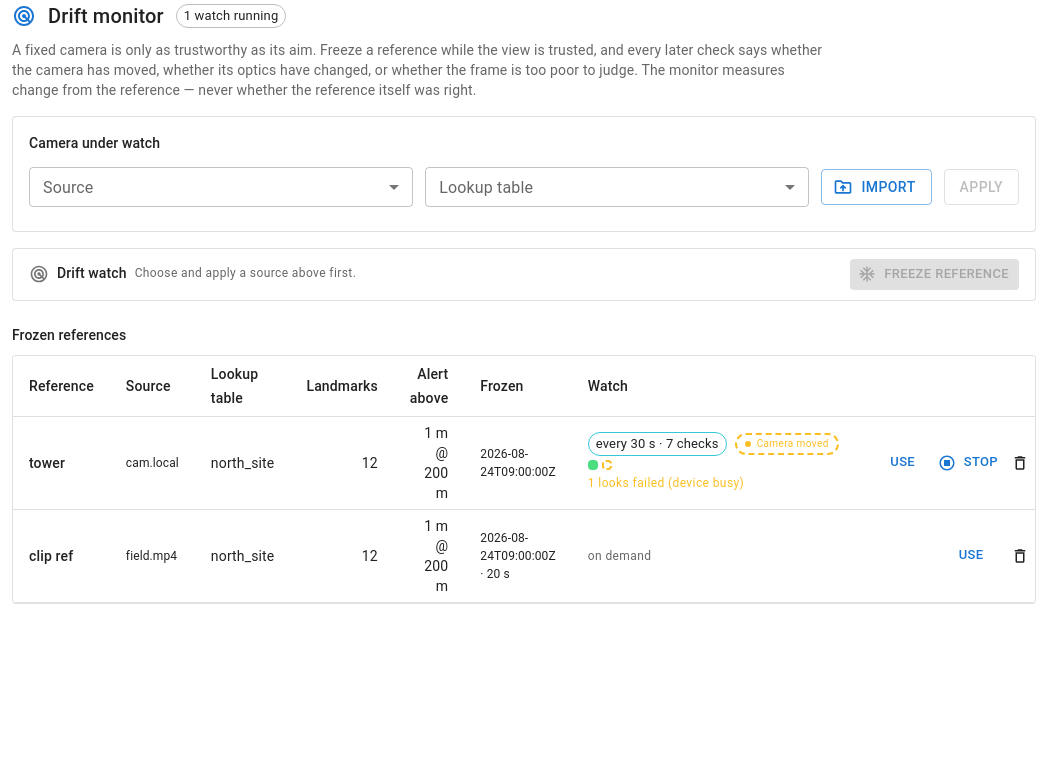
Test case: the drift monitor page › offers saved cameras, library clips and a free-form source
The image size is (1048, 768).
Expected: the table named "Frozen references" is shown, [13, 356, 1036, 603]
Press the mouse on the dropdown named "Source" at (221, 187), box [29, 167, 413, 207]
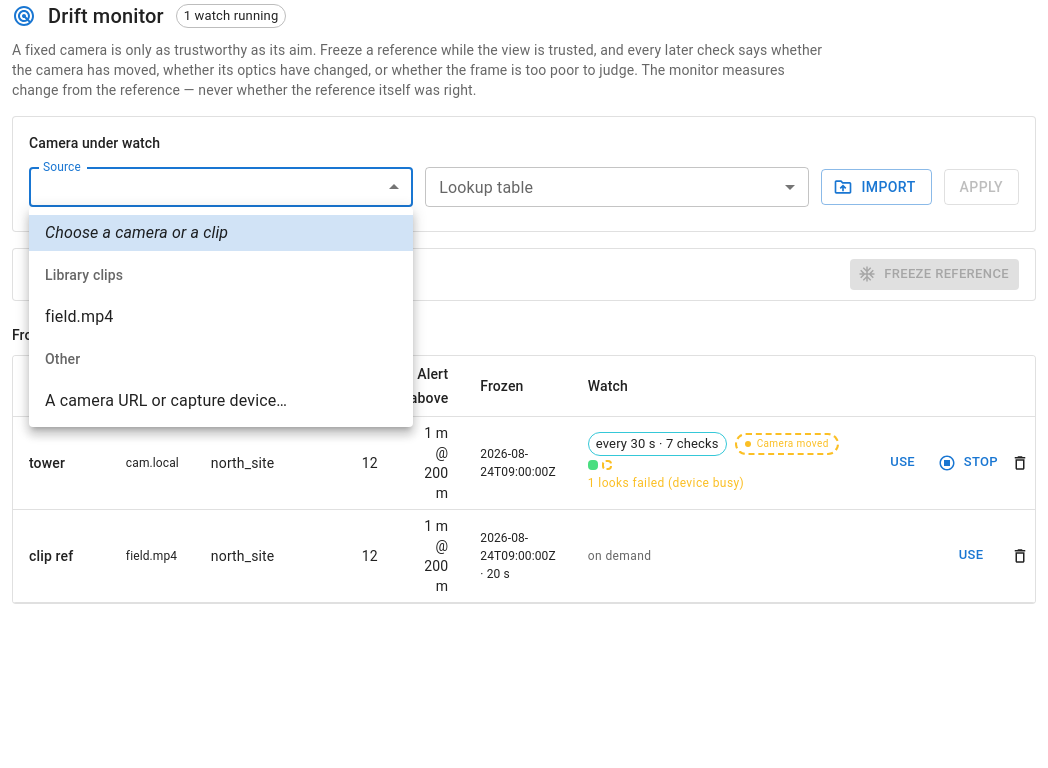
Now the option "field.mp4" is shown, box [45, 307, 113, 326]
Now the option "A camera URL or capture device…" is shown, box [45, 391, 287, 410]
